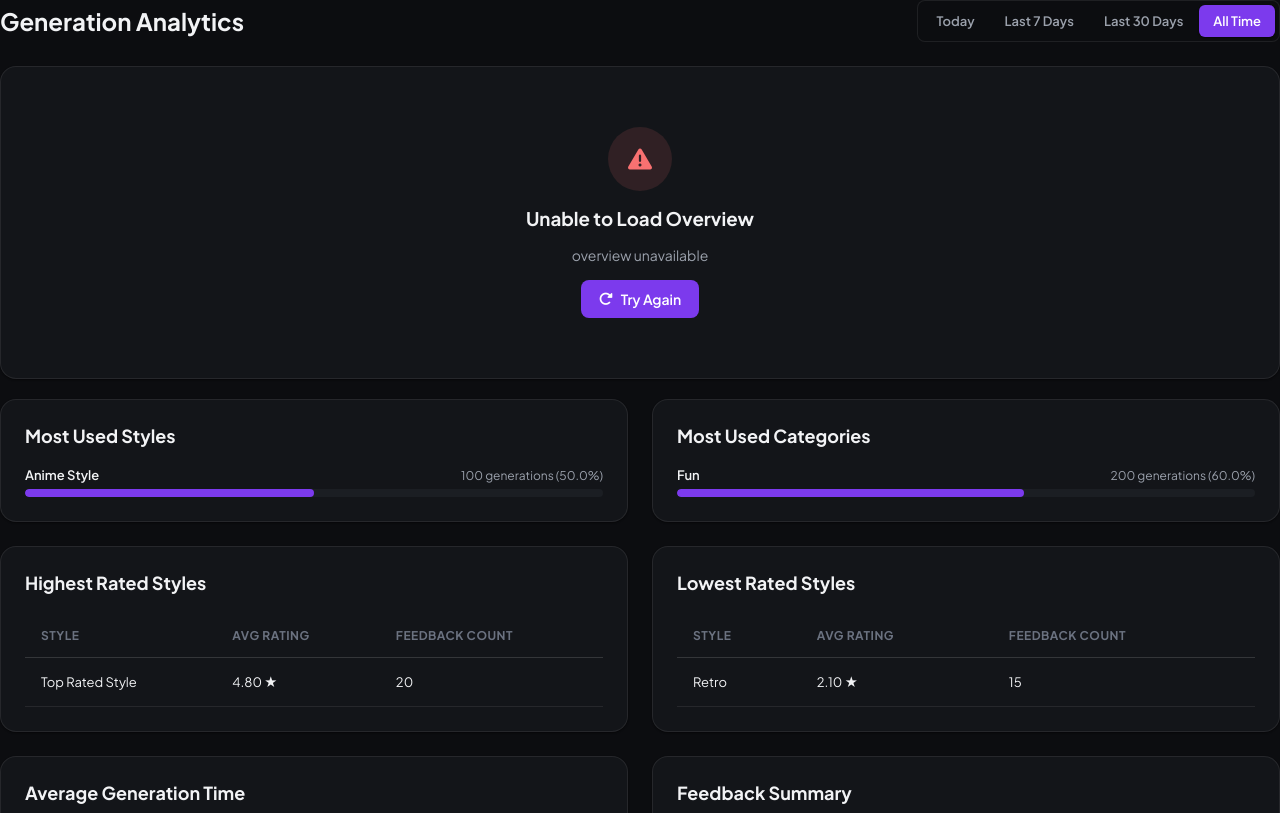
Test: GenerationAnalyticsPage › shows overview error state with retry
Check: the heading "Unable to Load Overview" is shown, box x1=526 y1=207 x2=754 y2=230
Check: the text "overview unavailable" is shown, box x1=572 y1=246 x2=708 y2=264
Click the button "Try Again" at [640, 299], box x1=581 y1=280 x2=699 y2=318
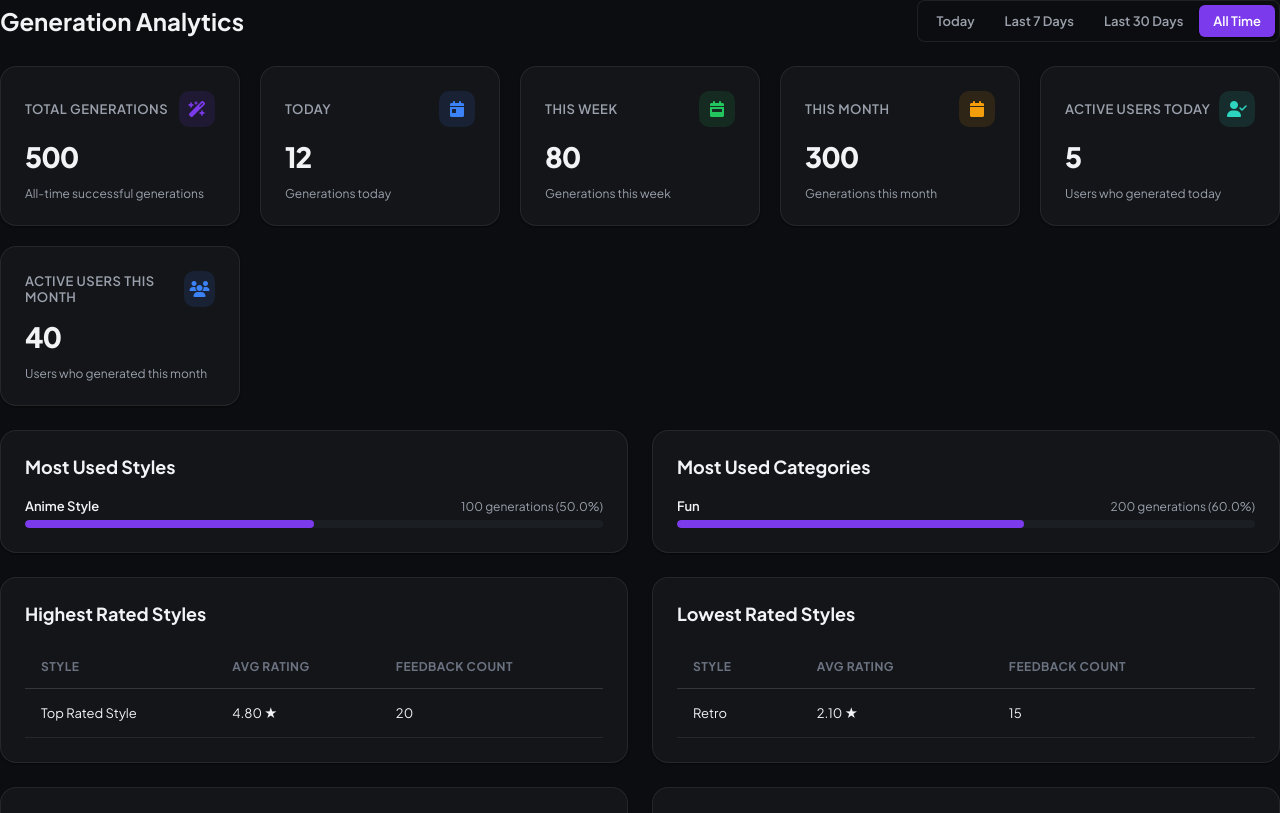
Check: the text "500" is shown, box x1=25 y1=139 x2=78 y2=174
